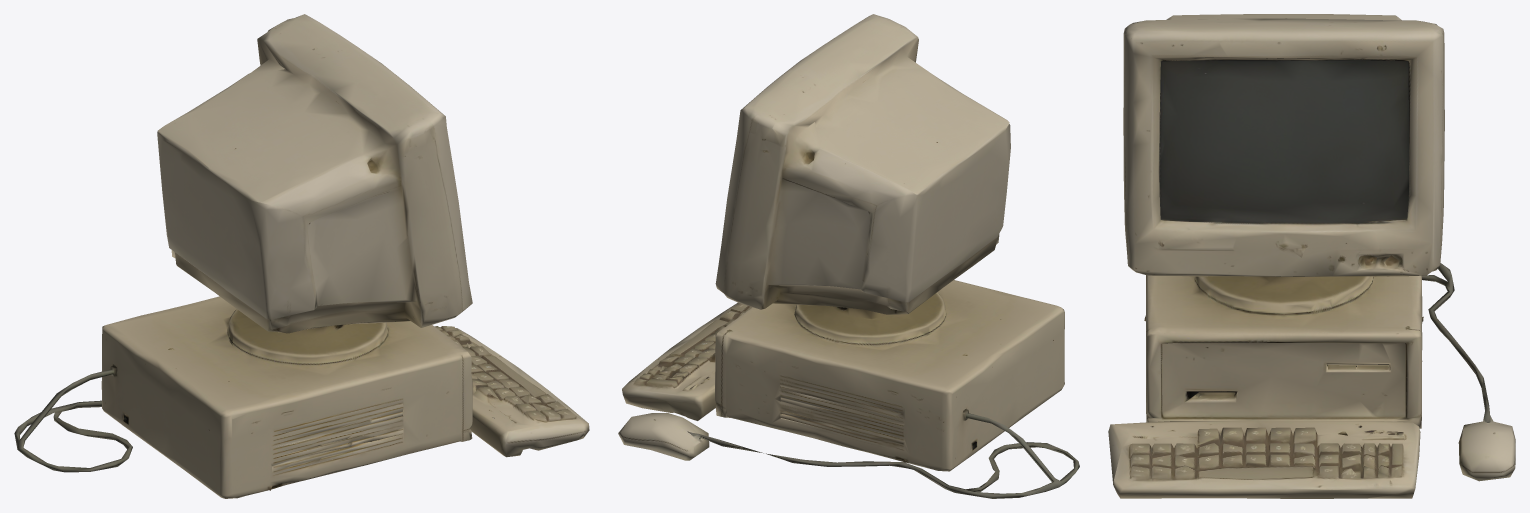
3 views of the same model, side by side, from view 1: azimuth 30°, elevation 25°; view 2: azimuth 150°, elevation 25°; view 3: azimuth 270°, elevation 25° (orthographic). The views are drawn at different scales.
Parts seen in each view (by area): view 1: tripo_node_f39b560b-f6e5-4c65-af43-f90713e6149f; view 2: tripo_node_f39b560b-f6e5-4c65-af43-f90713e6149f; view 3: tripo_node_f39b560b-f6e5-4c65-af43-f90713e6149f.
Part boxes in pixels (x1=…): tripo_node_f39b560b-f6e5-4c65-af43-f90713e6149f: x1=14, y1=14, x2=589, y2=498; tripo_node_f39b560b-f6e5-4c65-af43-f90713e6149f: x1=618, y1=14, x2=1079, y2=498; tripo_node_f39b560b-f6e5-4c65-af43-f90713e6149f: x1=1108, y1=14, x2=1515, y2=498.
Size of the model in its own units: 1 by 0.7503 by 0.6984.
Materials: 1 (1 with a texture image).
